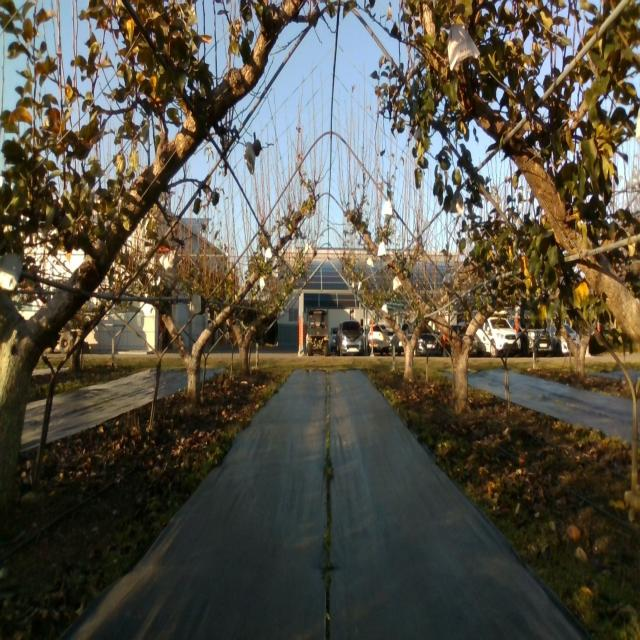pearbags: (446, 23, 479, 71), (0, 251, 24, 293), (159, 250, 178, 276), (244, 142, 256, 176), (451, 192, 464, 214)
